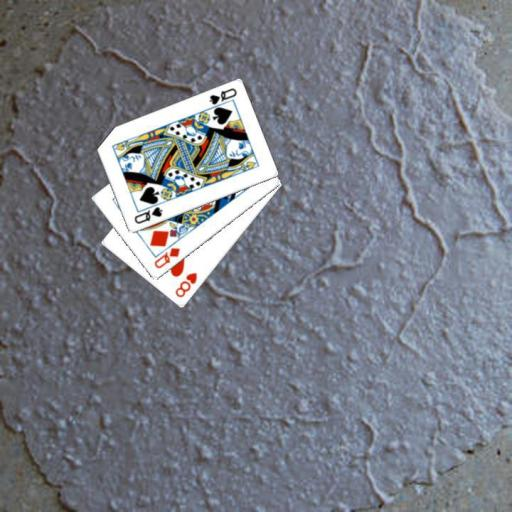8H: (172, 270, 198, 300)
QD: (151, 245, 181, 270)
QS: (131, 204, 164, 226), (206, 85, 238, 107)
